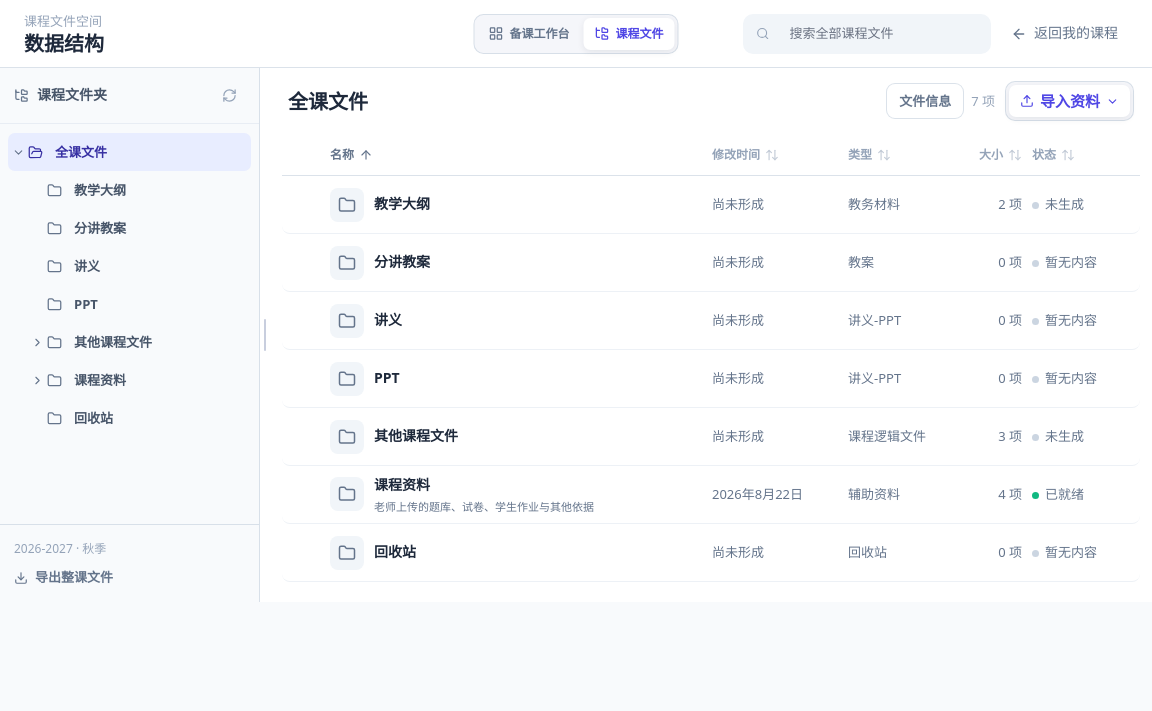
it: TeacherCourseSpaceView › 按对象类型提供文件夹、固定资产和上传文件的安全操作
Click the row with class "file-row" that starts with "课程资料" at (711, 495), box x1=282 y1=466 x2=1140 y2=524
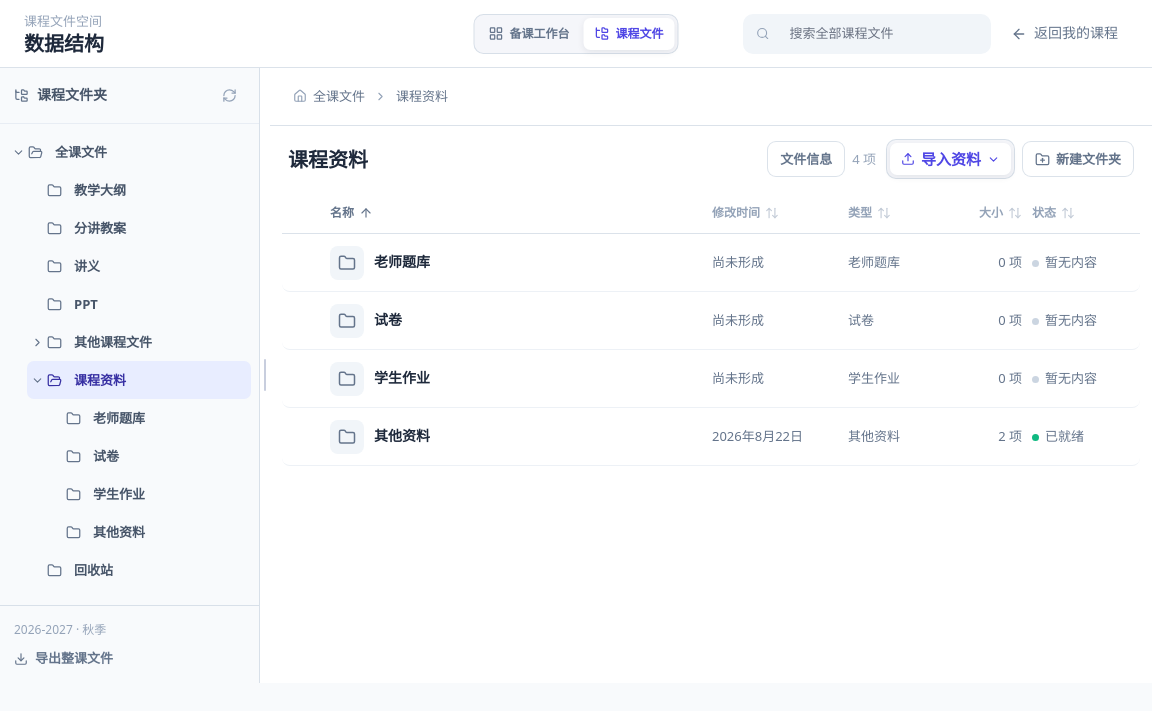
Click the row with class "file-row" showing "其他资料 2026年8月22日 其他资料 2 项 已就绪" at (711, 437), box x1=282 y1=408 x2=1140 y2=466
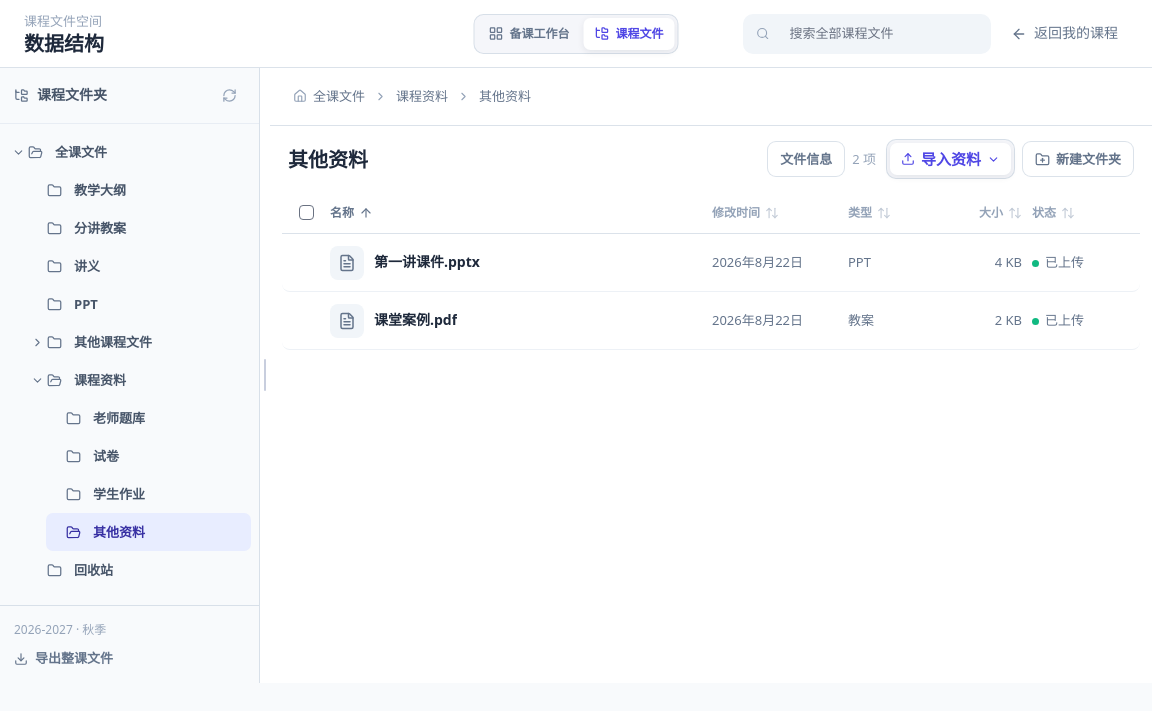
Check: the element with class "folder-title__actions" shows "新建文件夹", box x1=1022 y1=141 x2=1134 y2=177
Click the button with class "batch-import-button" at (950, 159), box x1=890 y1=143 x2=1011 y2=175
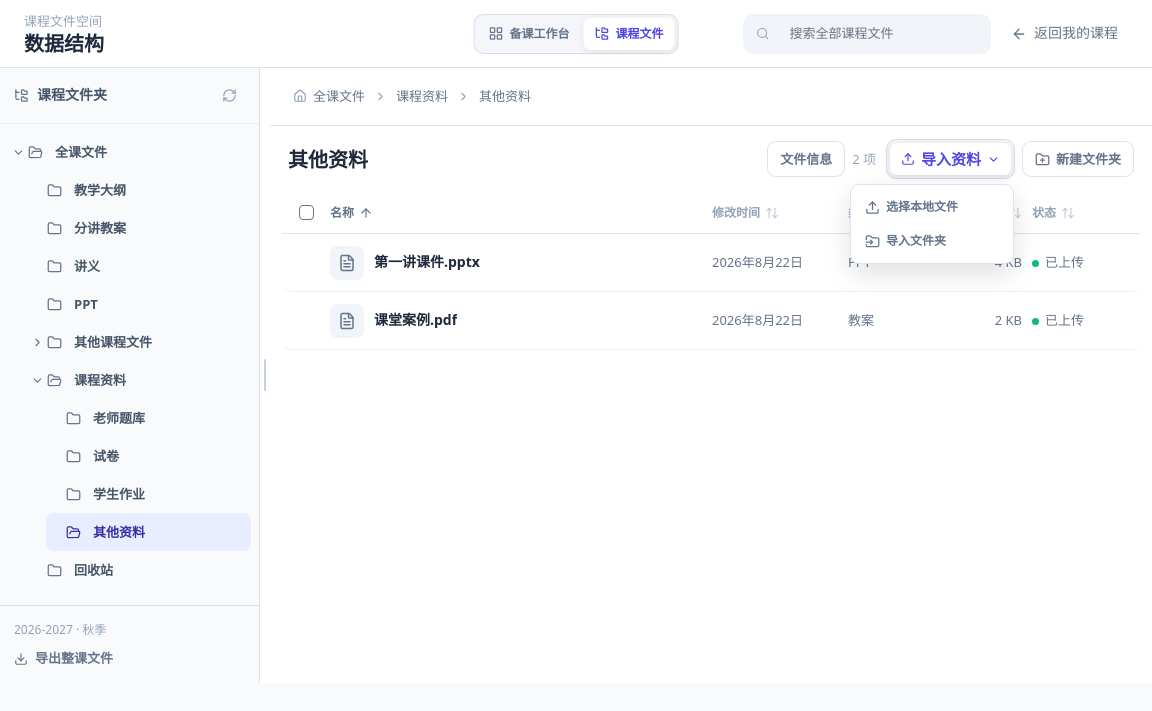
Check: the row with class "file-row" shows "教案", box x1=848 y1=311 x2=874 y2=329
Check: the menu with class "file-import-menu" shows "选择本地文件", box x1=856 y1=190 x2=1008 y2=224
Check: the menu with class "file-import-menu" shows "导入文件夹", box x1=856 y1=224 x2=1008 y2=258
Click the row with class "file-row" that starts with "课堂案例.pdf" at (711, 321), box x1=282 y1=292 x2=1140 y2=350
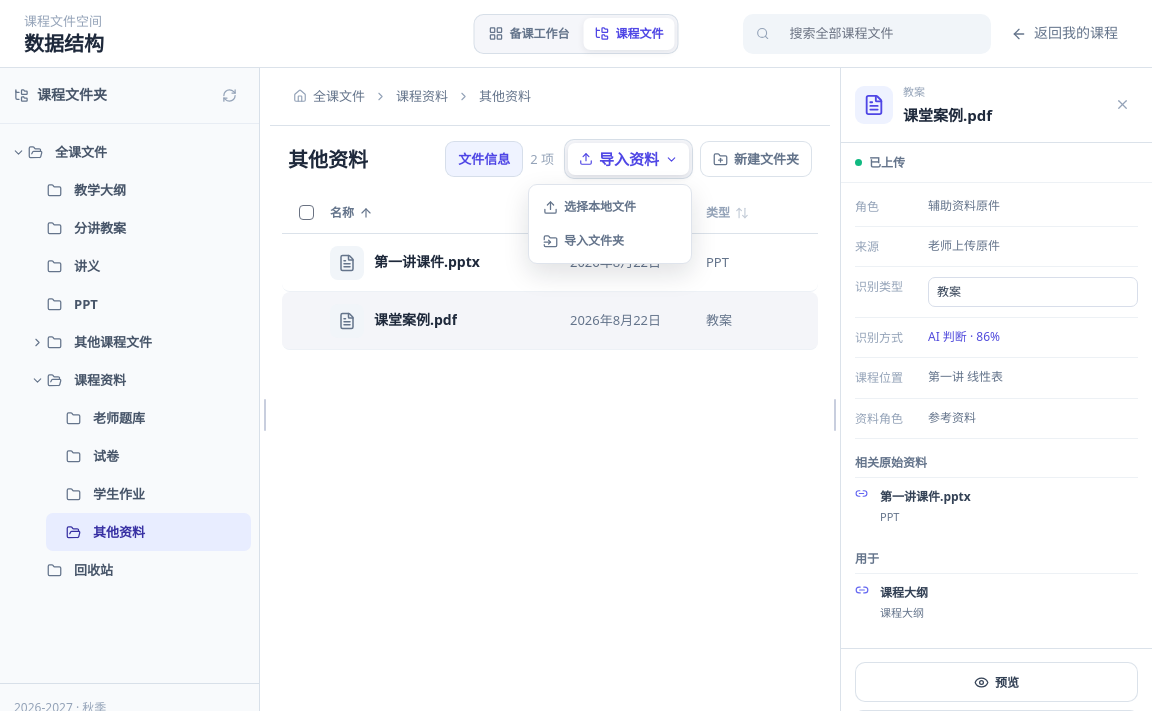
Check: the footer with class "inspector-actions" shows "预览", box x1=855 y1=662 x2=1138 y2=702
Check: the element with class "inspector-overview" shows "用于", box x1=855 y1=550 x2=879 y2=566
Check: the element with class "inspector-overview" shows "课程大纲", box x1=855 y1=572 x2=1138 y2=630
Select "PPT" in the dropdown with class "asset-type-select" at (1033, 292), box x1=928 y1=277 x2=1138 y2=307
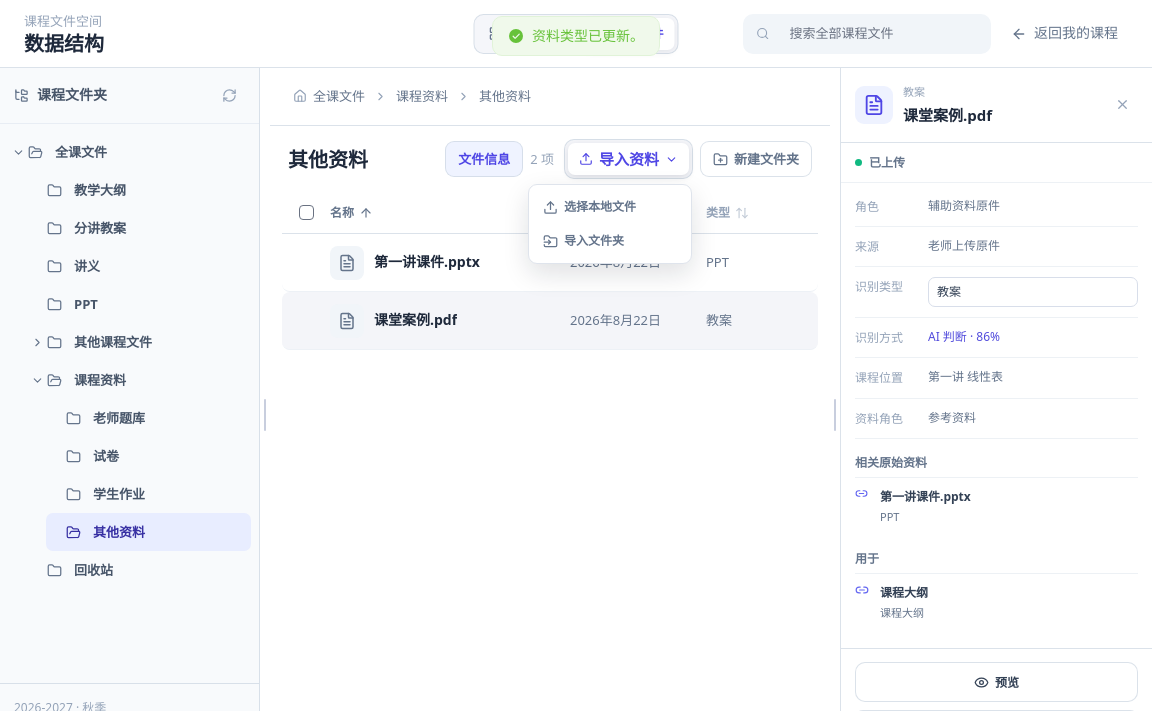
Right-click the row with class "file-row" that starts with "课堂案例.pdf" at (550, 321), box x1=282 y1=292 x2=818 y2=350
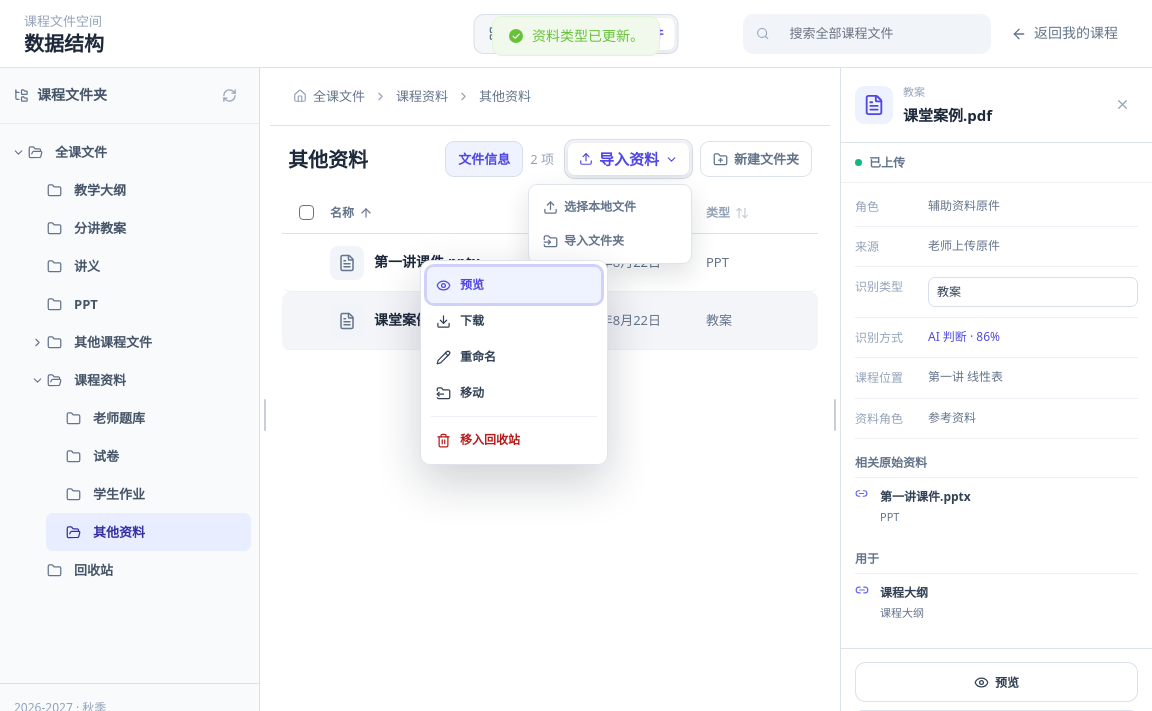
Check: the menu with class "file-context-menu" shows "预览", box x1=427 y1=267 x2=601 y2=303
Check: the menu with class "file-context-menu" shows "下载", box x1=427 y1=303 x2=601 y2=339
Check: the menu with class "file-context-menu" shows "重命名", box x1=427 y1=339 x2=601 y2=375
